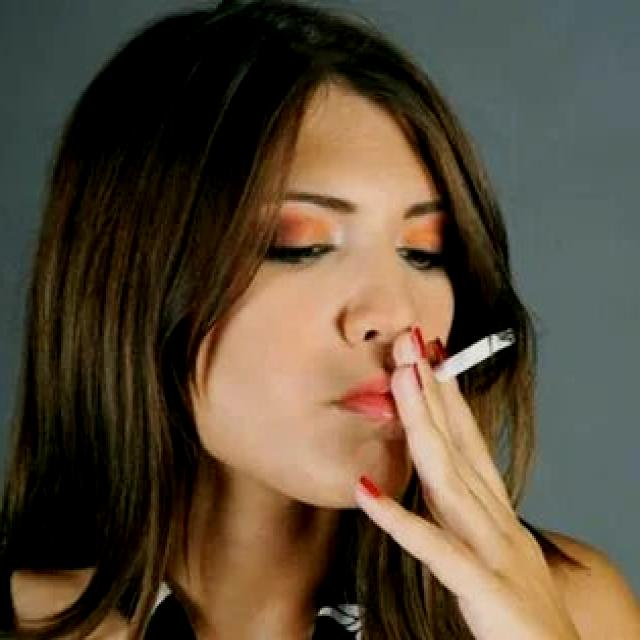smoke: (428, 324, 516, 388)
